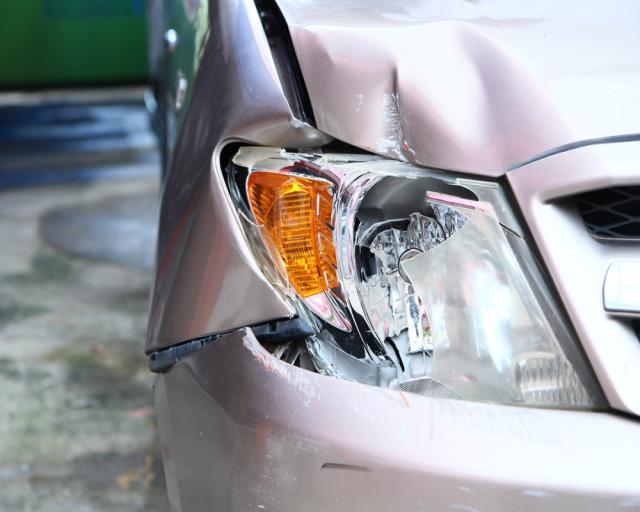dent: (293, 23, 565, 175)
lamp broken: (222, 143, 611, 413)
scratch: (239, 328, 327, 406), (315, 462, 376, 473)
